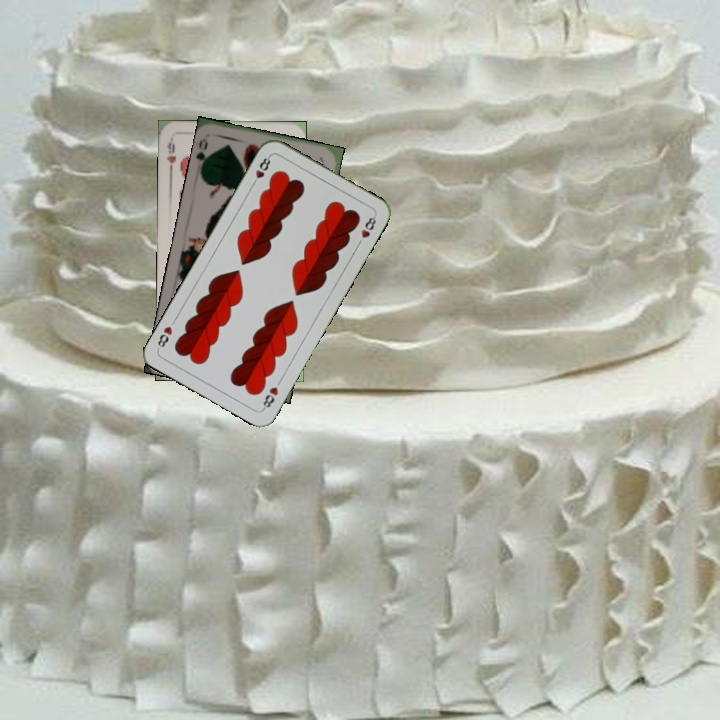GO: (193, 134, 215, 174)
H8: (248, 152, 273, 189), (259, 383, 281, 412)
H9: (163, 135, 178, 175)
